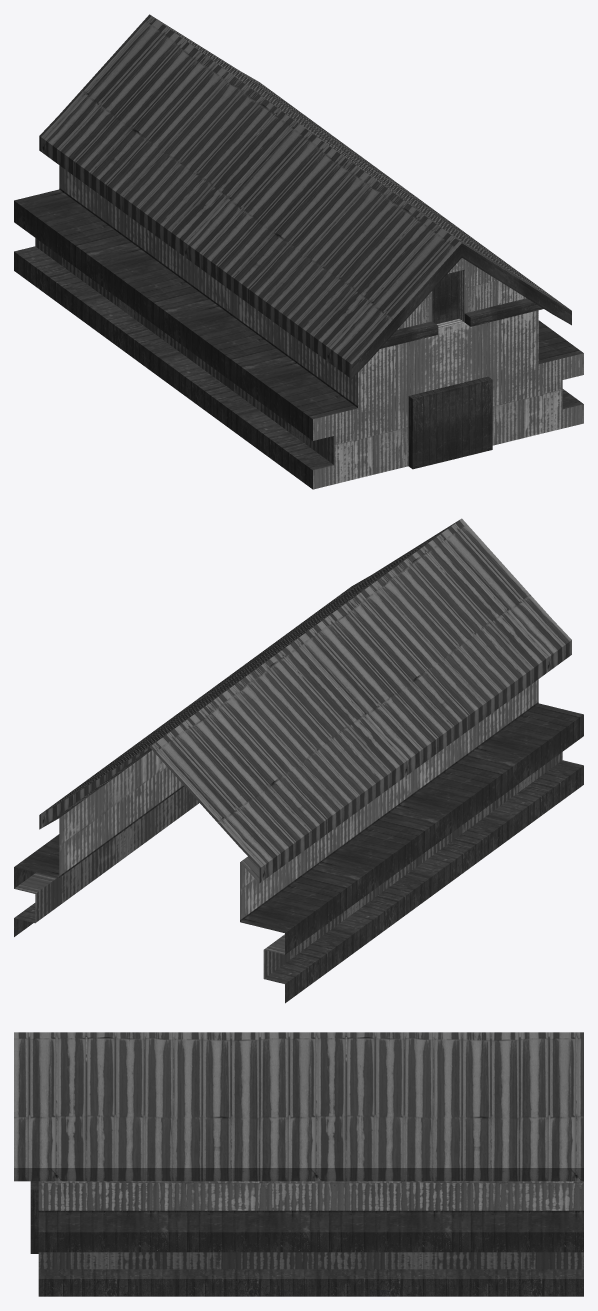
Rendered from slasher_barn_mesh.fbx.
3 views of the same model, one above another, from view 1: azimuth 30°, elevation 25°; view 2: azimuth 150°, elevation 25°; view 3: azimuth 270°, elevation 25° (orthographic). The views are drawn at different scales.
Parts seen in each view (by area): view 1: pCube1; view 2: pCube1; view 3: pCube1.
Boxes of the visible parts, bbox=[...] form: pCube1: bbox=[14, 14, 583, 489]; pCube1: bbox=[14, 518, 583, 1003]; pCube1: bbox=[14, 1032, 583, 1296].
Size of the model in its own units: 29.45 by 23.2 by 58.8.
Materials: 1 (1 with a texture image).
